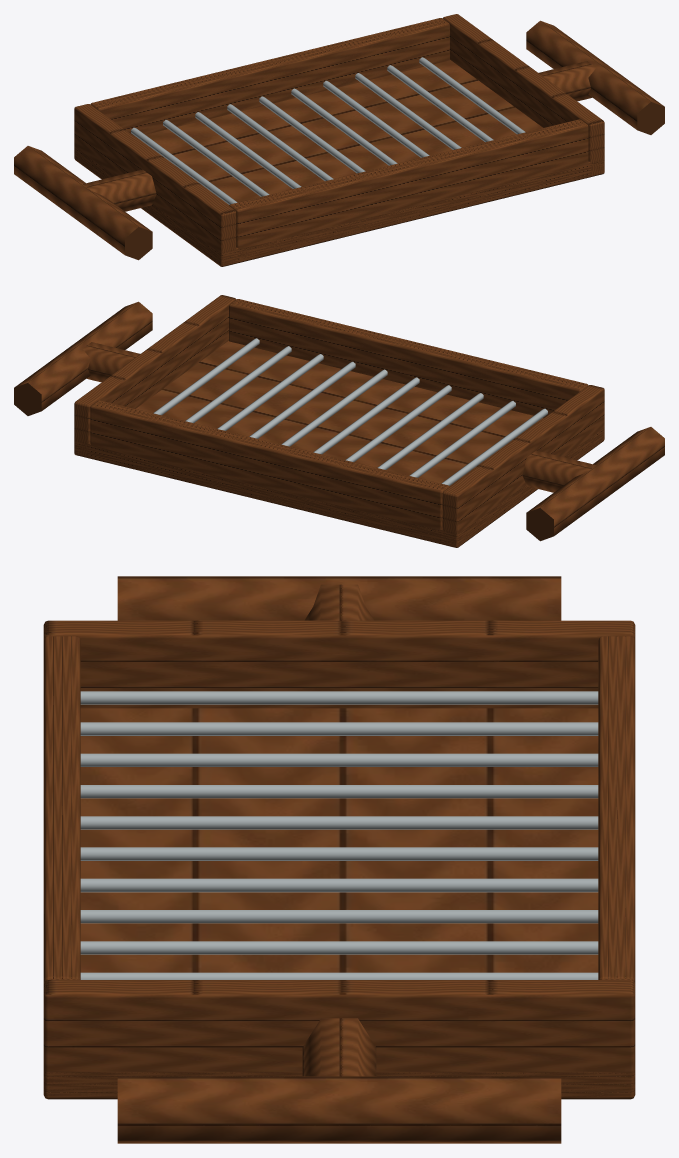
The model's file is prehistoric-expedition-sites-sediment-sieve-9064752a__26100.glb.
3 views of the same model, one above another, from view 1: azimuth 30°, elevation 25°; view 2: azimuth 150°, elevation 25°; view 3: azimuth 270°, elevation 25° (orthographic). The views are drawn at different scales.
Visible parts, largest first — view 1: sediment-sieve; view 2: sediment-sieve; view 3: sediment-sieve.
Boxes of the visible parts, x1,y1,x2,y2 form: sediment-sieve: (14, 14, 664, 266); sediment-sieve: (14, 295, 664, 547); sediment-sieve: (43, 576, 635, 1143).
Bounding box in the file's own units: 0.8433 × 0.08 × 0.4.
2 materials, 1 textured.
